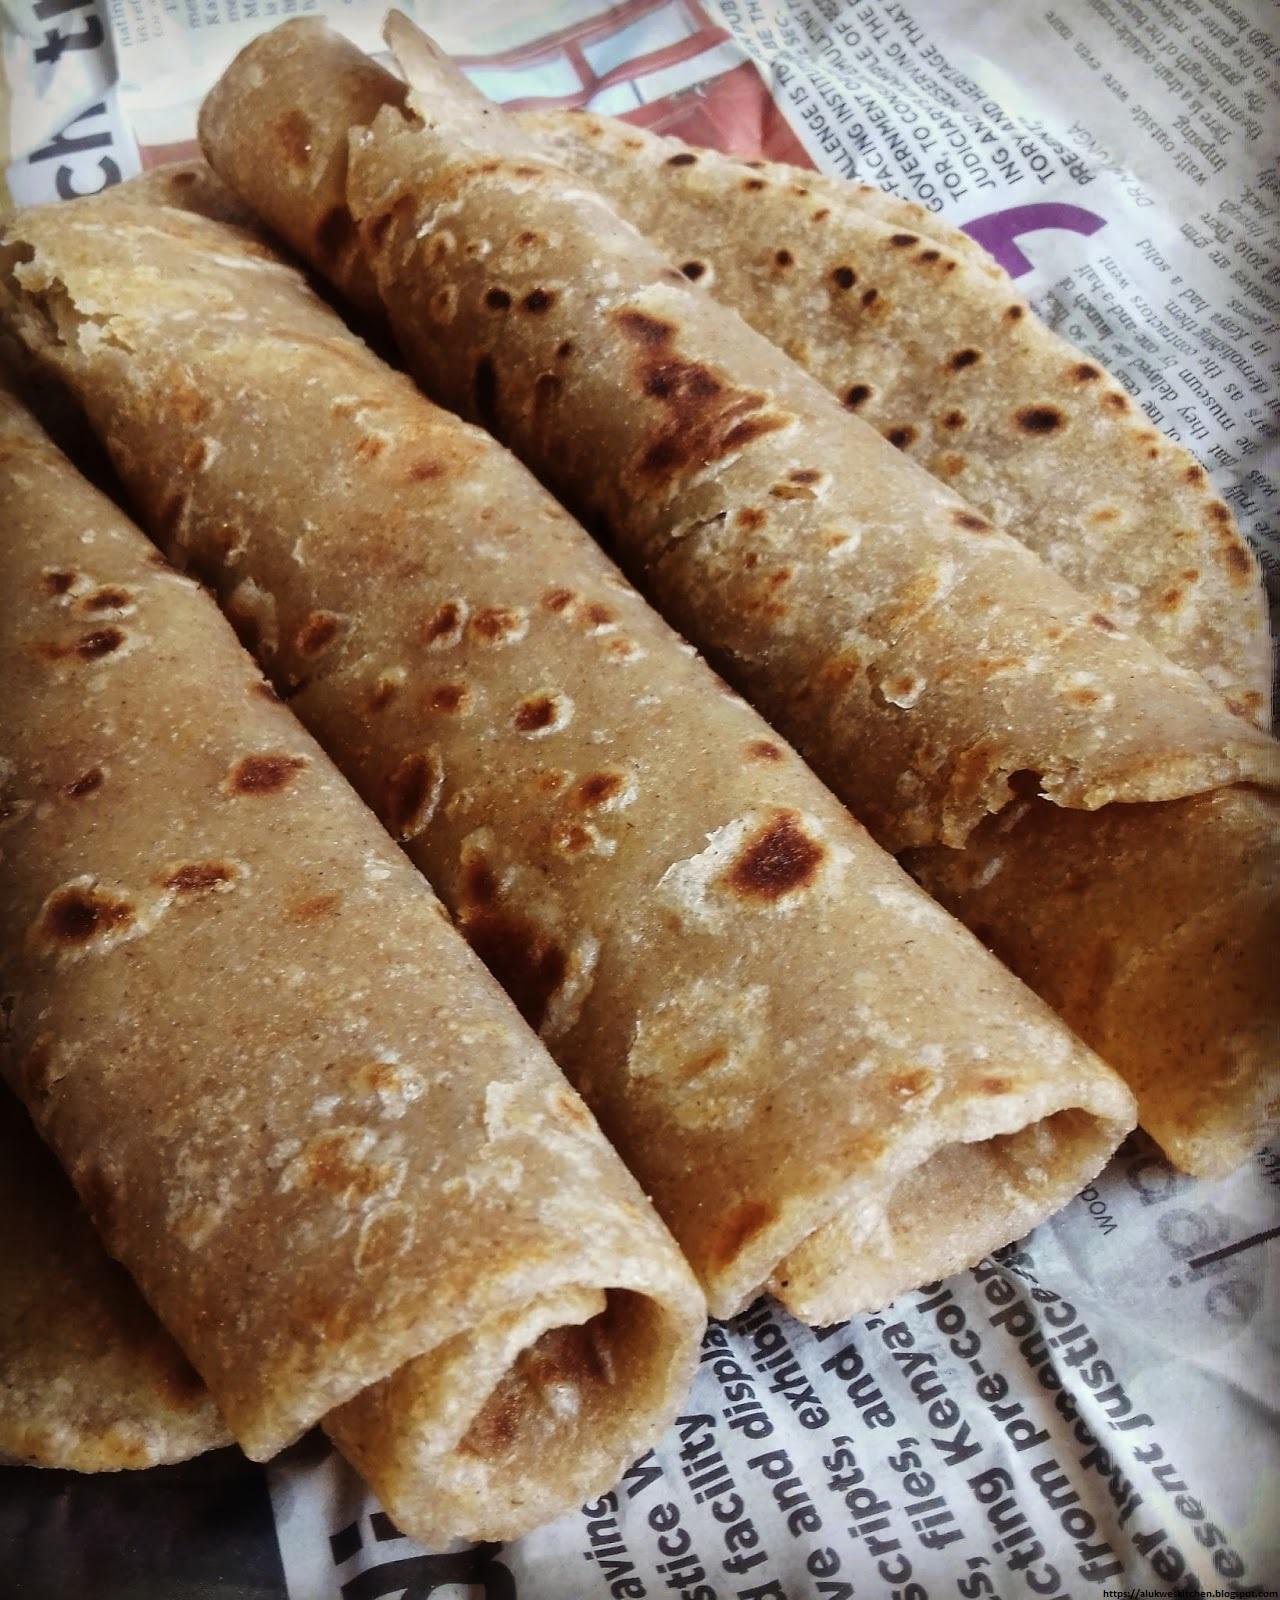chapati: (7, 200, 1131, 1315), (7, 200, 1131, 1313), (200, 18, 1275, 1173), (0, 391, 700, 1535)
